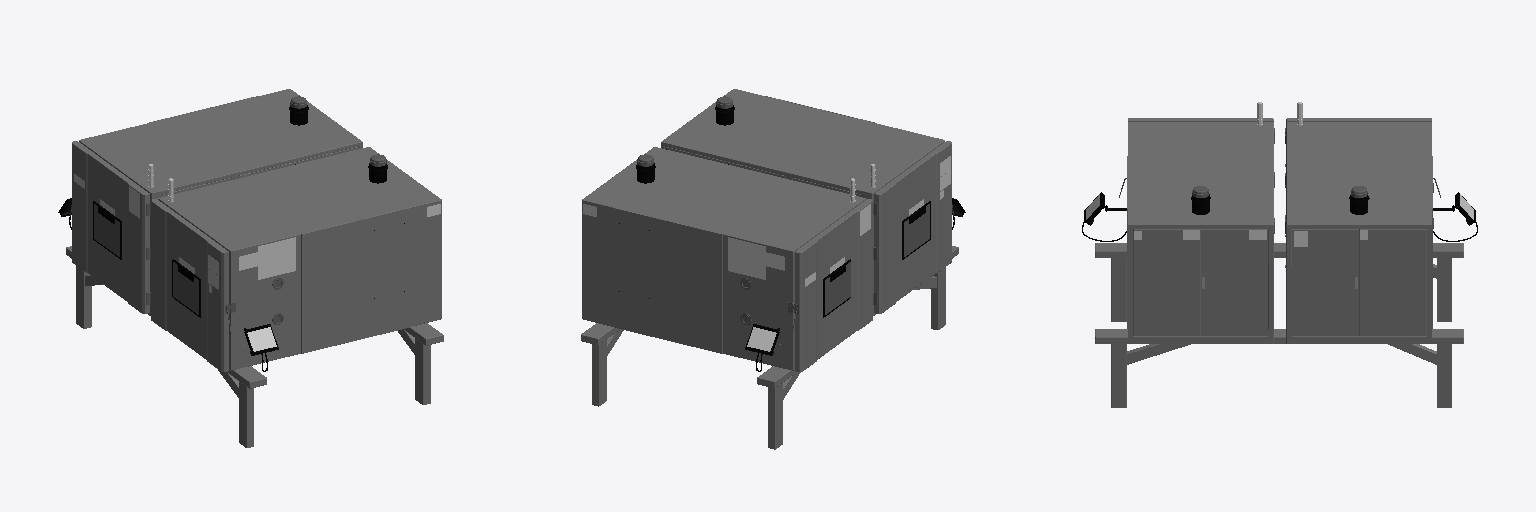
Rendered from 26WKGZX.obj.
The picture shows the model from 3 angles: view 1: azimuth 30°, elevation 25°; view 2: azimuth 150°, elevation 25°; view 3: azimuth 270°, elevation 25°; orthographic projection.
Parts seen in each view (by area): view 1: Matel_02, Tex, Matel_05, Glass, Matel_01; view 2: Matel_02, Tex, Matel_05, Glass, Matel_01; view 3: Matel_02, Matel_05, Tex.
Part boxes in pixels (bbox=[...]): Matel_02: bbox=[66, 89, 443, 447]; Tex: bbox=[74, 164, 440, 351]; Matel_05: bbox=[58, 105, 404, 371]; Glass: bbox=[94, 204, 198, 314]; Matel_01: bbox=[70, 203, 283, 332]; Matel_02: bbox=[581, 89, 958, 449]; Tex: bbox=[583, 156, 950, 351]; Matel_05: bbox=[619, 105, 965, 371]; Glass: bbox=[825, 204, 929, 314]; Matel_01: bbox=[740, 203, 953, 332]; Matel_02: bbox=[1095, 118, 1463, 407]; Matel_05: bbox=[1082, 192, 1477, 241]; Tex: bbox=[1086, 102, 1473, 246].
Size of the model in its own units: 93.84 by 87.5 by 146.